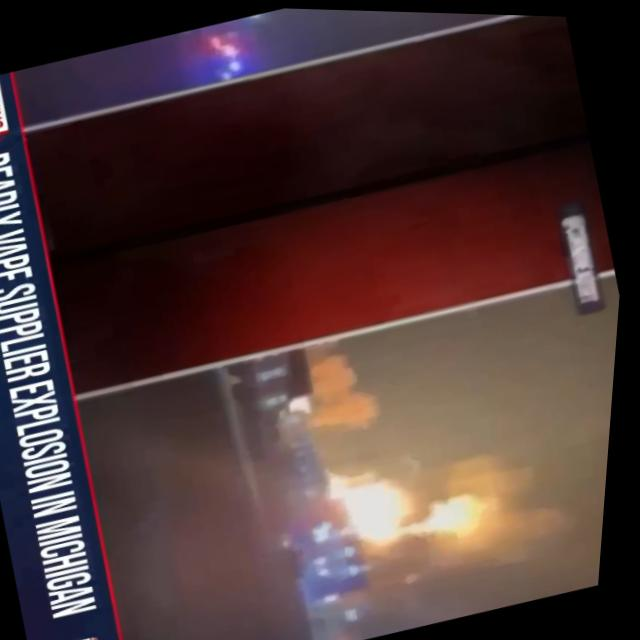Fire: (299, 436, 528, 596)
